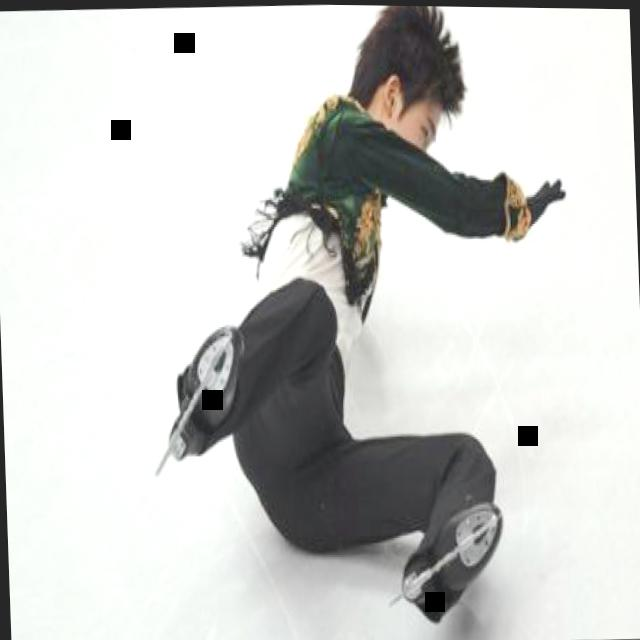Fall-Detected: (128, 1, 586, 640)
